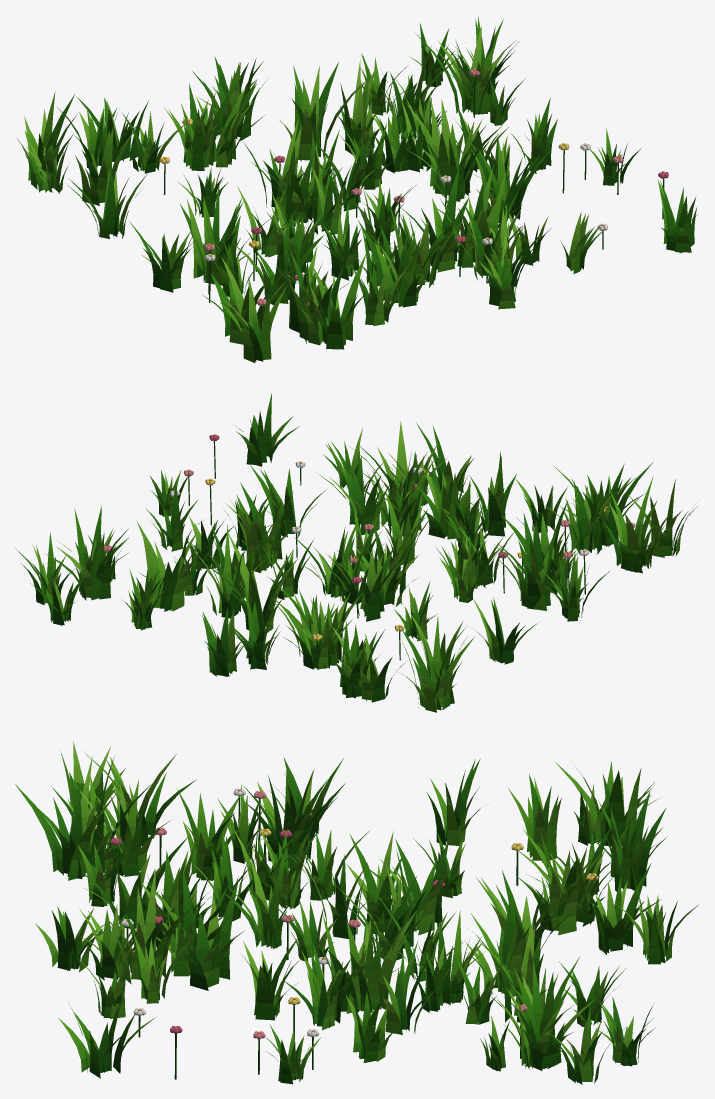
Rendered from ENV_GrassPatch.fbx.
3 renders of one model, top to bottom at view 1: azimuth 30°, elevation 25°; view 2: azimuth 150°, elevation 25°; view 3: azimuth 270°, elevation 25°, orthographic. The views are drawn at different scales.
Parts seen in each view (by area): view 1: ENV_GrassPatch_Mesh; view 2: ENV_GrassPatch_Mesh; view 3: ENV_GrassPatch_Mesh.
Part boxes in pixels (box(x1,y1,x2,y2)): ENV_GrassPatch_Mesh: box(17, 16, 697, 362); ENV_GrassPatch_Mesh: box(15, 393, 697, 712); ENV_GrassPatch_Mesh: box(14, 742, 698, 1084).
Size of the model in its own units: 4.45 by 0.6839 by 4.59.
